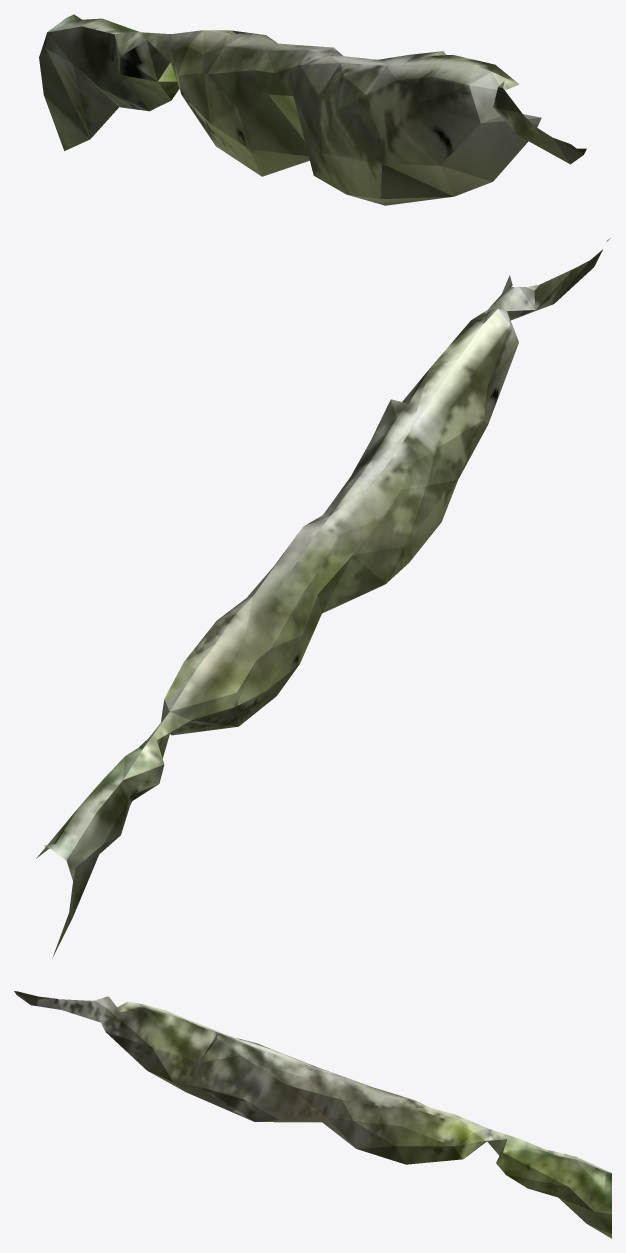
3 views of the same model, one above another, from view 1: azimuth 30°, elevation 25°; view 2: azimuth 150°, elevation 25°; view 3: azimuth 270°, elevation 25° (orthographic). The views are drawn at different scales.
Bounding box in the file's own units: 0.2793 × 0.8778 × 2.07.
Materials: 1 (1 with a texture image).
